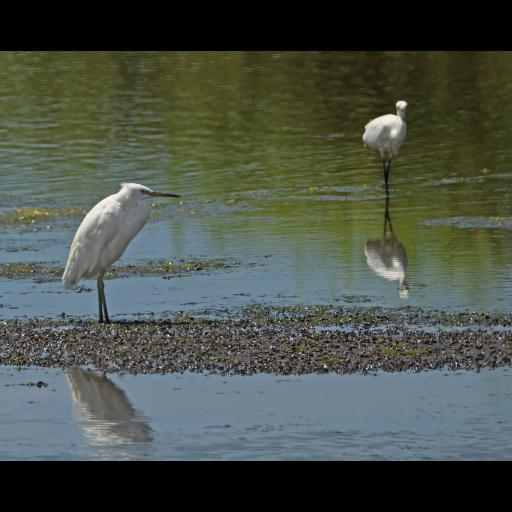chinese_egret: (61, 183, 185, 323)
